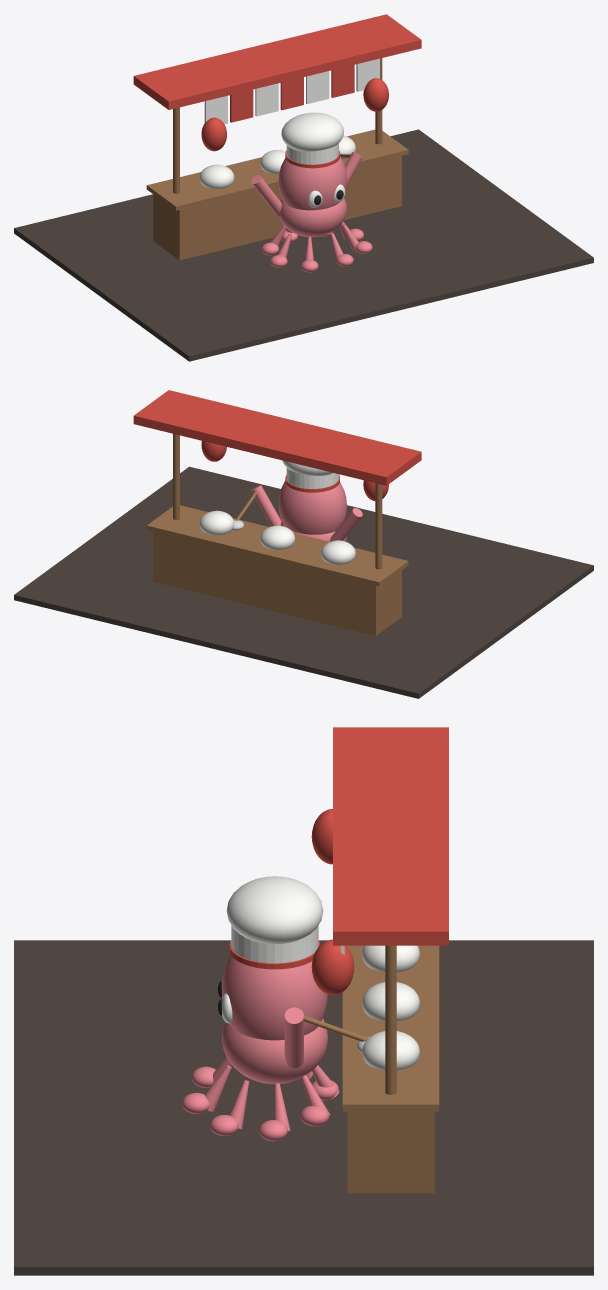
File: octopus_chef.glb
3 renders of one model, top to bottom at view 1: azimuth 30°, elevation 25°; view 2: azimuth 150°, elevation 25°; view 3: azimuth 270°, elevation 25°, orthographic. The views are drawn at different scales.
Parts seen in each view (by area): view 1: Cube, Cube.003, Cube.001, Cube.002, Sphere, Sphere.014, Sphere.001, Cylinder.002, Sphere.016, Sphere.026, Sphere.025, Cube.006 (+9 smaller); view 2: Cube, Cube.001, Cube.003, Cube.002, Sphere, Sphere.019, Sphere.016, Sphere.022, Cylinder.002, Cylinder, Cylinder.001, Cylinder.004 (+1 smaller); view 3: Cube, Cube.003, Cube.002, Cube.001, Sphere, Sphere.014, Sphere.001, Cylinder.002, Sphere.025, Cylinder.001, Sphere.022, Sphere.019 (+3 smaller).
Part boxes in pixels (<box>): Cube: <box>14,129,593,361</box>; Cube.003: <box>133,14,421,109</box>; Cube.001: <box>153,156,401,260</box>; Cube.002: <box>146,129,408,210</box>; Sphere: <box>278,156,346,210</box>; Sphere.014: <box>281,112,343,151</box>; Sphere.001: <box>279,198,346,236</box>; Cylinder.002: <box>286,143,338,164</box>; Sphere.016: <box>199,164,234,188</box>; Sphere.026: <box>201,117,226,151</box>; Sphere.025: <box>363,78,388,111</box>; Cube.006: <box>255,83,278,116</box>; Cube: <box>14,466,593,698</box>; Cube.001: <box>153,531,401,635</box>; Cube.003: <box>133,390,421,485</box>; Cube.002: <box>146,505,408,586</box>; Sphere: <box>278,481,346,534</box>; Sphere.019: <box>260,525,294,549</box>; Sphere.016: <box>321,540,355,564</box>; Sphere.022: <box>199,510,234,534</box>; Cylinder.002: <box>286,468,338,488</box>; Cylinder: <box>375,483,382,569</box>; Cylinder.001: <box>173,434,179,519</box>; Cylinder.004: <box>251,485,281,526</box>; Cube: <box>14,940,593,1275</box>; Cube.003: <box>333,727,448,945</box>; Cube.002: <box>342,945,439,1111</box>; Cube.001: <box>347,1111,434,1193</box>; Sphere: <box>222,954,327,1040</box>; Sphere.014: <box>226,876,323,944</box>; Sphere.001: <box>222,1018,327,1084</box>; Cylinder.002: <box>231,925,318,963</box>; Sphere.025: <box>311,939,354,994</box>; Cylinder.001: <box>385,945,396,1094</box>; Sphere.022: <box>362,1031,419,1070</box>; Sphere.019: <box>362,982,419,1021</box>.
Bounding box in the file's own units: 8 × 3.23 × 6.
